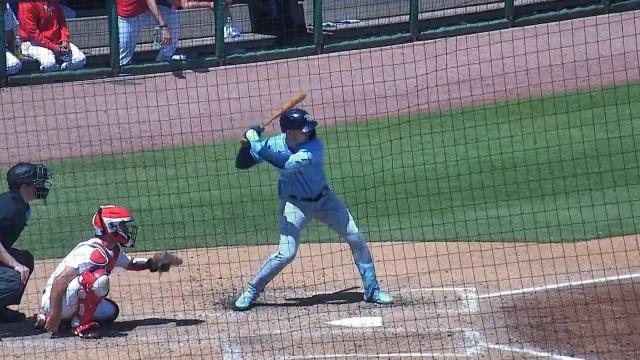bat: (260, 91, 308, 129)
